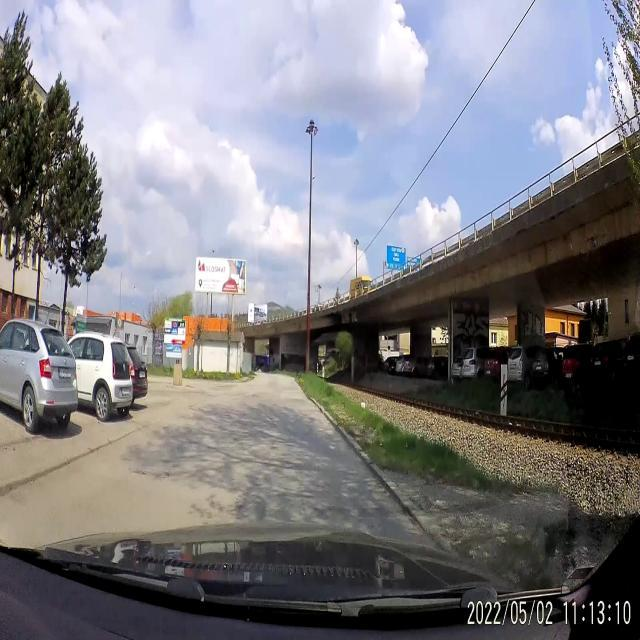Pothole: (125, 464, 177, 486)
